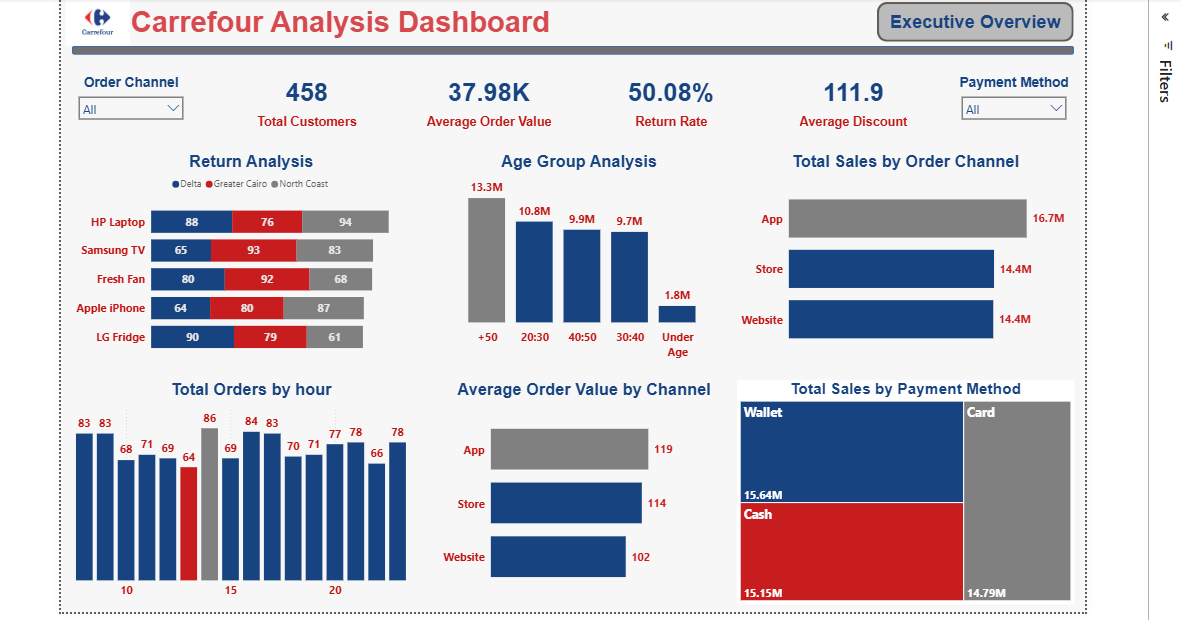

The dashboard page shown, as its layout file describes it:
{"tool":"powerbi","page":{"name":"Operational Insights","canvas":[1500,900],"ordinal":1},"visuals":[{"type":"textbox","box":[68.7,6,681.3,77.7],"z":0},{"type":"shape","box":[15.7,70.8,1468.5,12.6],"z":1000},{"type":"cardVisual","fields":{"Data":["Count(cr.CustomerID)","cr.002_AVG_per_Order","All Measures.002_return_rate","All Measures.004_AVG_discount"]},"box":[212.2,98.6,1099.6,113.5],"z":2000},{"type":"slicer","title":"Order Channel","fields":{"Values":["cr.OrderChannel"]},"box":[15.7,113.3,173.1,83.4],"z":3000},{"type":"slicer","title":"Payment Method","fields":{"Values":["cr.PaymentMethod"]},"box":[1311.1,113.3,173.1,83.4],"z":4000},{"type":"image","box":[6,0,95.6,70.2],"z":5000},{"type":"columnChart","title":"Age Group Analysis","fields":{"Category":["cr.Age_Group"],"Y":["All Measures.001_Total_Sales"]},"box":[554.3,225.6,410.9,310.8],"z":6000},{"type":"barChart","title":"Return Analysis","fields":{"Category":["cr.ProductName"],"Y":["CountNonNull(cr.ReturnFlag)"],"Series":["cr.StoreRegion"]},"box":[16.4,225.6,525.9,310.8],"z":7000},{"type":"clusteredBarChart","title":"Total  Sales by Order Channel","fields":{"Category":["cr.OrderChannel"],"Y":["All Measures.001_Total_Sales"]},"box":[990.5,225.6,494.5,310.8],"z":8000},{"type":"clusteredBarChart","title":"Average Order Value by Channel","fields":{"Category":["cr.OrderChannel"],"Y":["All Measures.004_AVG_discount"]},"box":[554.3,560.3,425.8,328.7],"z":9000},{"type":"treemap","title":"Total Sales by Payment Method ","fields":{"Group":["cr.PaymentMethod"],"Values":["All Measures.001_Total_Sales"]},"box":[990.5,560.3,494.5,328.7],"z":10000},{"type":"columnChart","title":"Total Orders by hour","fields":{"Category":["Peak_Hours.hour"],"Y":["Sum(Peak_Hours.OrdersCount)"]},"box":[16.4,560.3,525.9,328.7],"z":11000},{"type":"actionButton","box":[1196.7,6,288.3,58.3],"z":12000}]}

Visuals, with their boxes on the page's 1500x900 design canvas (x1, y1, x2, y2). These are canvas units, not pixel positions in the 1181x620 screenshot, which may show the page scaled, cropped or inside an application window:
textbox: (x1=69, y1=6, x2=750, y2=84)
shape: (x1=16, y1=71, x2=1484, y2=83)
cardVisual - Count(cr.CustomerID) x cr.002_AVG_per_Order: (x1=212, y1=99, x2=1312, y2=212)
"Order Channel" slicer: (x1=16, y1=113, x2=189, y2=197)
"Payment Method" slicer: (x1=1311, y1=113, x2=1484, y2=197)
image: (x1=6, y1=0, x2=102, y2=70)
"Age Group Analysis" columnChart: (x1=554, y1=226, x2=965, y2=536)
"Return Analysis" barChart: (x1=16, y1=226, x2=542, y2=536)
"Total  Sales by Order Channel" clusteredBarChart: (x1=990, y1=226, x2=1485, y2=536)
"Average Order Value by Channel" clusteredBarChart: (x1=554, y1=560, x2=980, y2=889)
"Total Sales by Payment Method " treemap: (x1=990, y1=560, x2=1485, y2=889)
"Total Orders by hour" columnChart: (x1=16, y1=560, x2=542, y2=889)
actionButton: (x1=1197, y1=6, x2=1485, y2=64)
